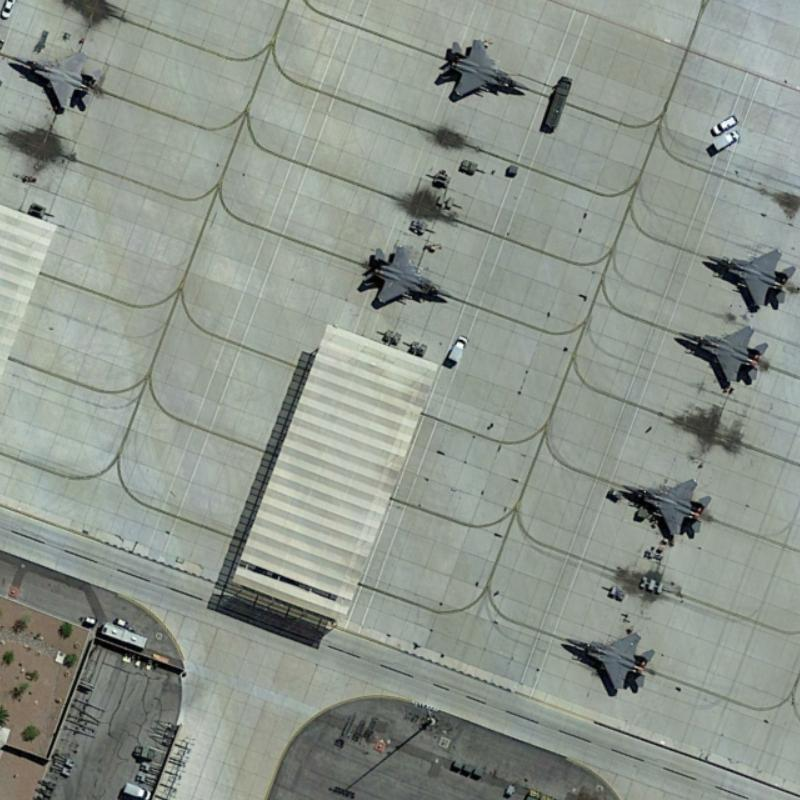A13: (0, 31, 111, 117), (554, 626, 664, 703), (358, 235, 458, 316), (699, 233, 796, 316), (430, 27, 532, 104), (670, 321, 773, 397), (614, 470, 715, 546)
